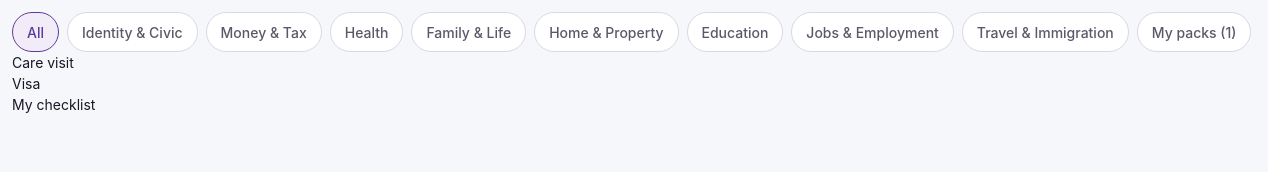
Test: package category navigation › filters Health, Travel, My packs and restores All with correct pressed states
This screenshot has width=1268, height=172.
Click the button "Health" at [367, 32], box [330,12,403,52]
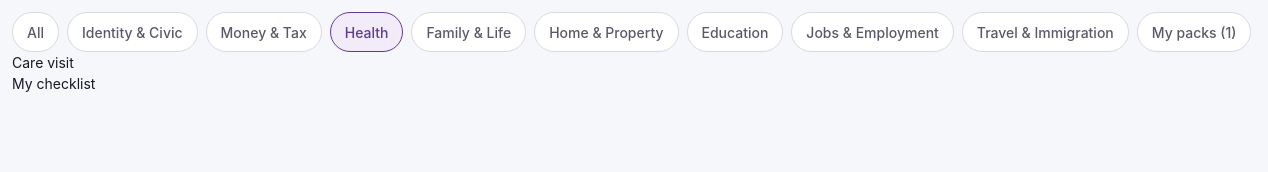
Check: the list item "Care visit" is shown, box [12,54,74,71]
Check: the list item "Visa" is gone
Click the button "Travel & Immigration" at [1045, 32], box [962,12,1129,52]
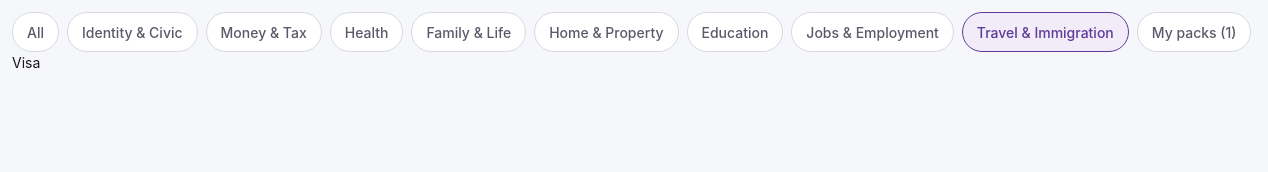
Check: the list item "Visa" is shown, box [12,54,40,71]
Check: the list item "Care visit" is gone
Click the button "My packs (1)" at [1194, 32], box [1137,12,1252,52]
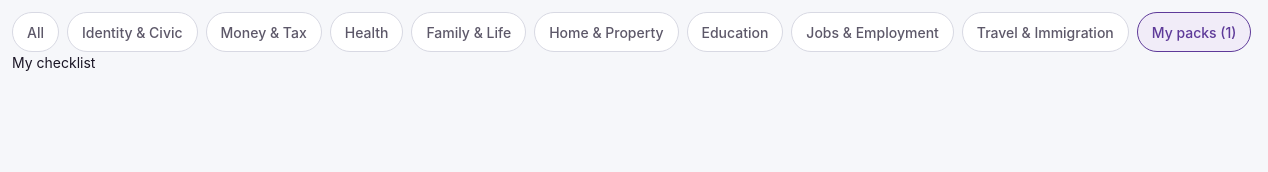
Check: the number of list items is 1, box [12,54,95,71]
Click the button "All" at [36, 32], box [12,12,59,52]
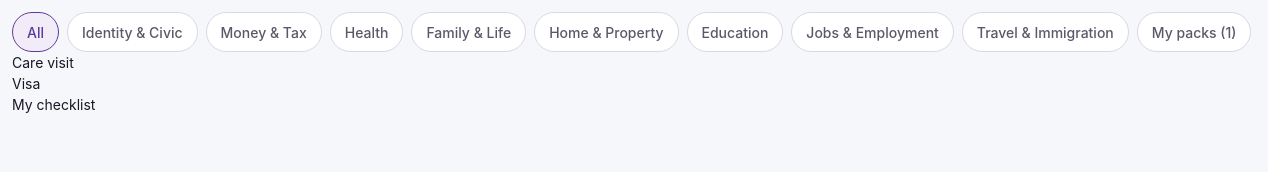
Check: the number of list items is 3, box [12,54,74,71]; [12,75,40,92]; [12,96,95,113]
